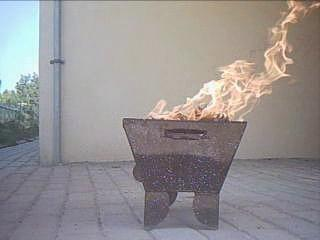fire: (168, 62, 269, 120), (259, 2, 314, 77)
